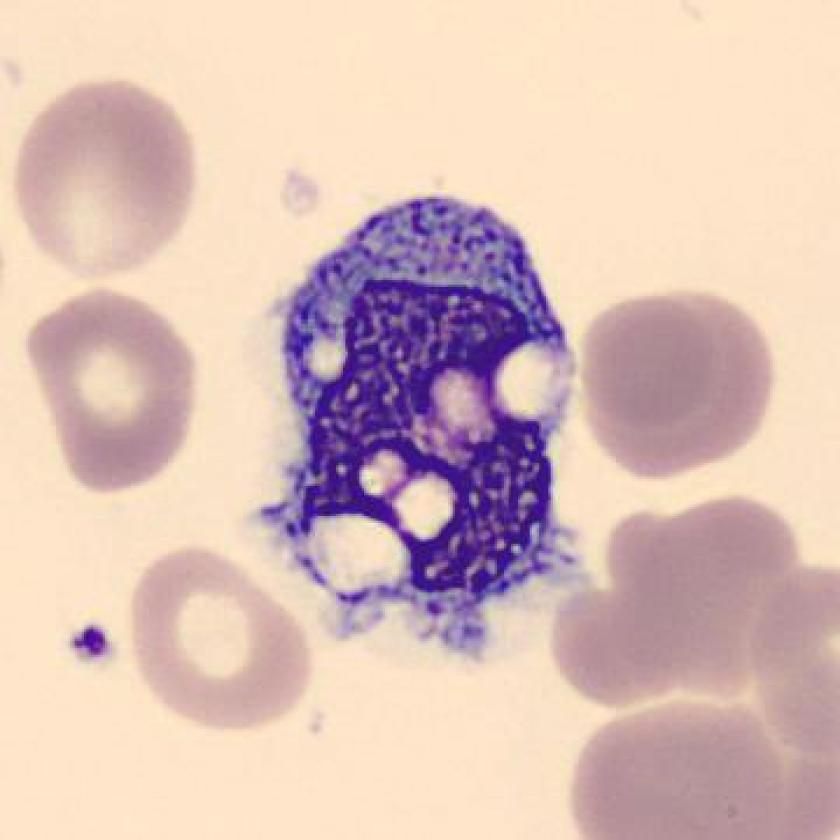monocyte: (230, 173, 622, 682)
